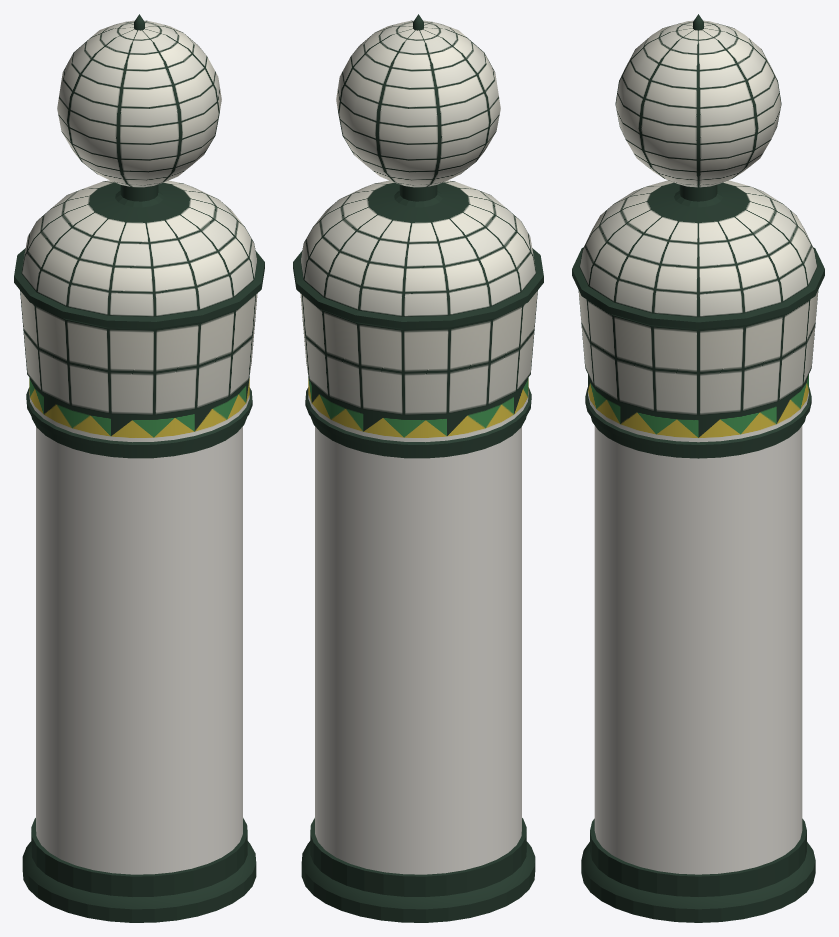
The model's file is litfass_dresden.glb.
The picture shows the model from 3 angles, left to right: view 1: azimuth 30°, elevation 25°; view 2: azimuth 150°, elevation 25°; view 3: azimuth 270°, elevation 25°; orthographic projection.
Visible parts, largest first — view 1: litfass_dresden; view 2: litfass_dresden; view 3: litfass_dresden.
Part boxes in pixels (x1,y1,x2,y2): litfass_dresden: (14,14,264,922); litfass_dresden: (293,14,543,922); litfass_dresden: (572,14,824,922).
Size of the model in its own units: 1.34 by 5.02 by 1.34.
4 materials, 2 textured.
